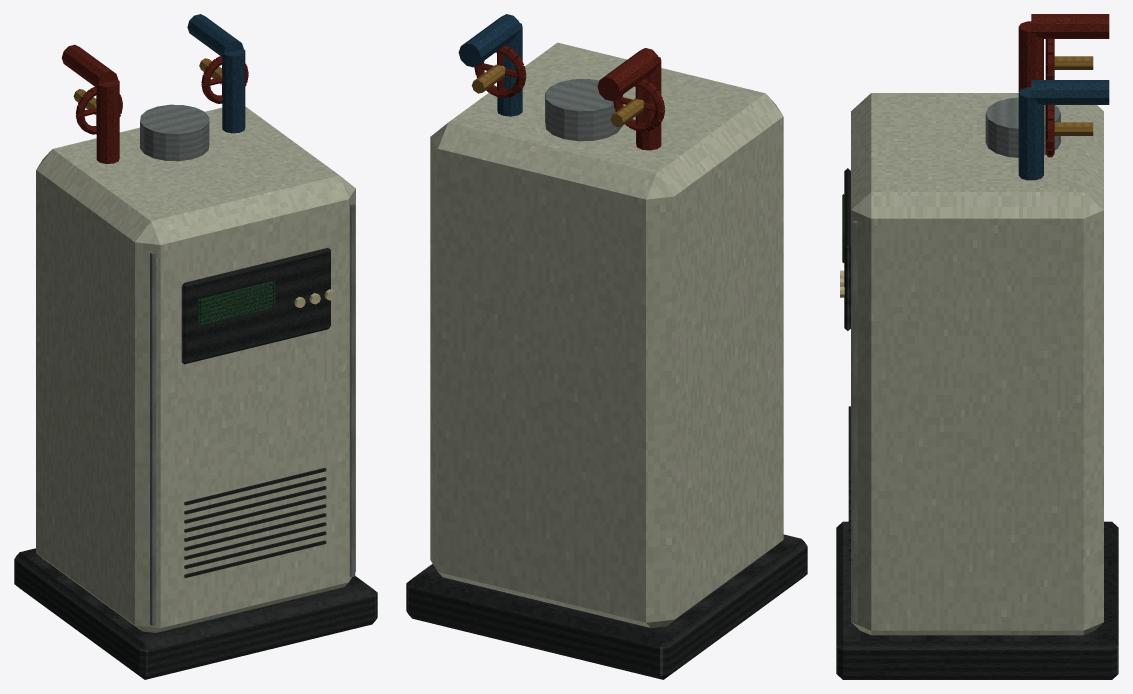
File: level_castle_plant_boiler.glb
3 renders of one model, left to right at view 1: azimuth 30°, elevation 25°; view 2: azimuth 150°, elevation 25°; view 3: azimuth 270°, elevation 25°, orthographic. The views are drawn at different scales.
Parts seen in each view (by area): view 1: level_boiler_modern; view 2: level_boiler_modern; view 3: level_boiler_modern.
Part boxes in pixels (bbox=[...]): level_boiler_modern: bbox=[14, 14, 377, 679]; level_boiler_modern: bbox=[406, 14, 807, 679]; level_boiler_modern: bbox=[836, 14, 1118, 679].
Bounding box in the file's own units: 1.1 × 2.34 × 1.05.
8 materials, 8 textured.
